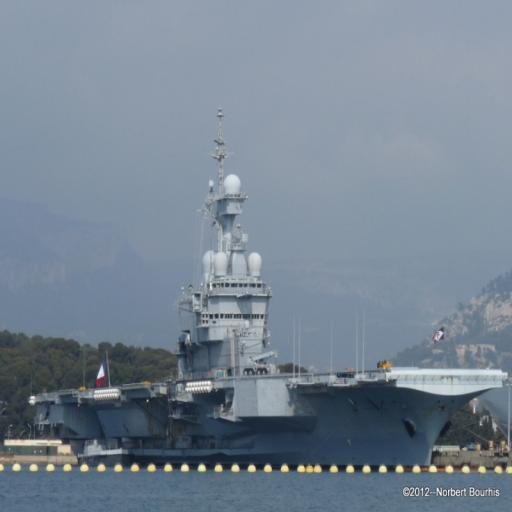Portanaves: (33, 98, 507, 477)
